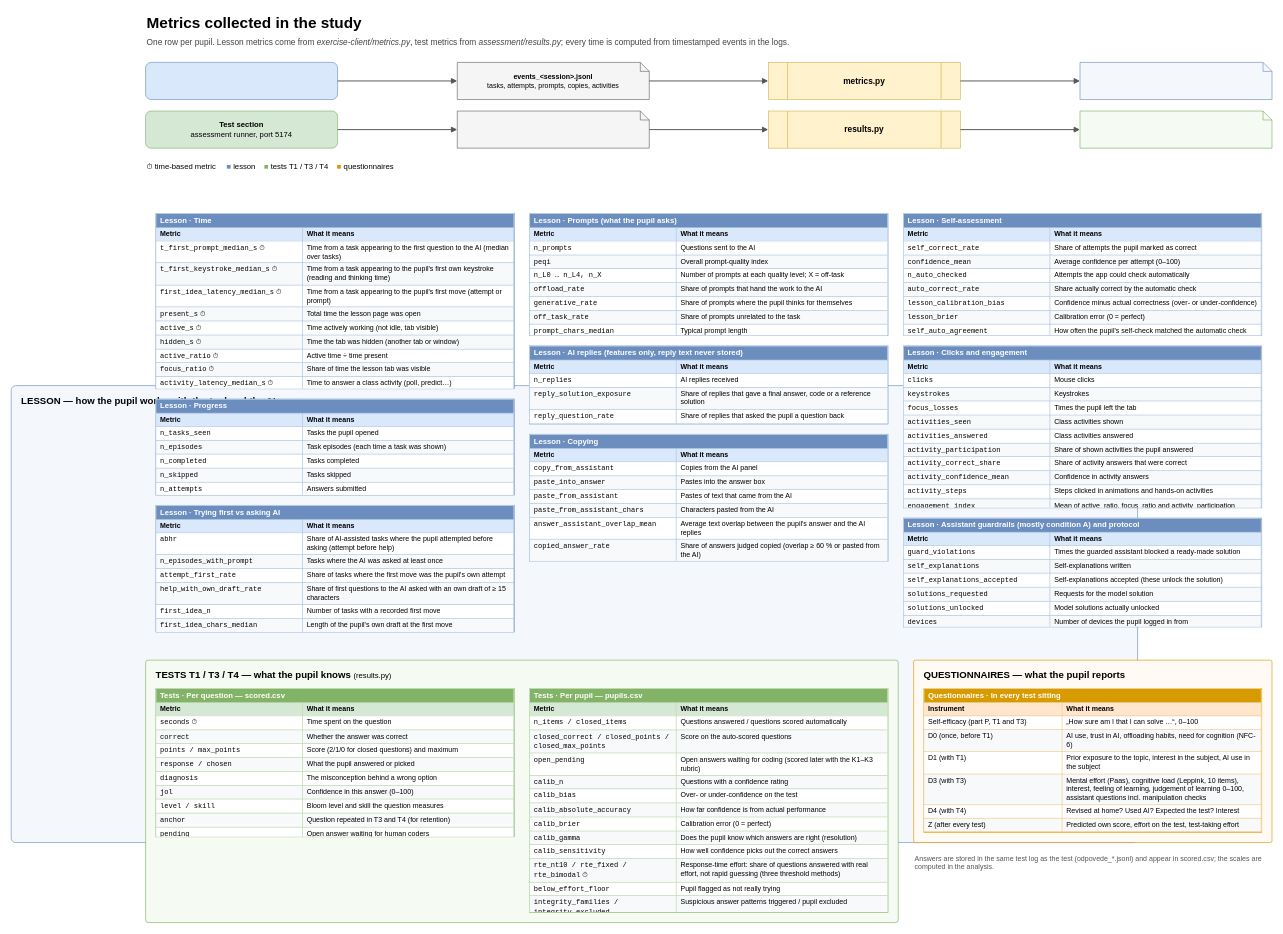
The diagram is 1283 pixels wide and 934 high, and some of its shapes have lost their labels. Each missing label, with the centre of its shape:
"Lesson app exercise-client, port 5173" goes at pixel 241 81.
"metrics.csv one row per pupil × lesson" goes at pixel 1175 81.
"odpovede_<session>_<test>.jsonl answers, time per question, confidence" goes at pixel 553 129.
"scored.csv · pupils.csv · coding.csv per question · per pupil · open answers" goes at pixel 1175 129.
